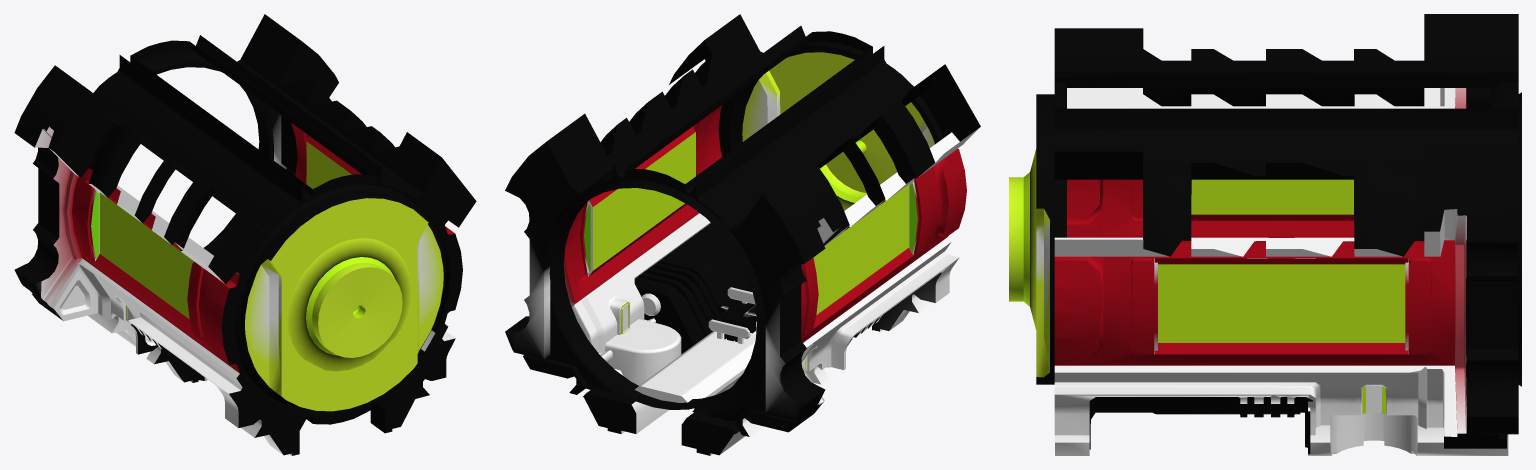
The model's file is part_main-lod0.dae.
3 renders of one model, left to right at view 1: azimuth 30°, elevation 25°; view 2: azimuth 150°, elevation 25°; view 3: azimuth 270°, elevation 25°, orthographic. The views are drawn at different scales.
Parts seen in each view (by area): view 1: part_main-lod0Xlod0Xp2genericXgen_p2_hulltextureaged_02_b, part_main-lod0Xlod0Xp2genericXgen_p2_hulltexture_02_c, part_main-lod0Xlod0Xp2genericXgen_p2_hullpattern_01, part_main-lod0Xlod0Xp2multimatXp2_multimat_01; view 2: part_main-lod0Xlod0Xp2genericXgen_p2_hulltextureaged_02_b, part_main-lod0Xlod0Xp2genericXgen_p2_hullpattern_01, part_main-lod0Xlod0Xp2genericXgen_p2_hulltexture_02_c, part_main-lod0Xlod0Xp2multimatXp2_multimat_01; view 3: part_main-lod0Xlod0Xp2genericXgen_p2_hulltextureaged_02_b, part_main-lod0Xlod0Xp2genericXgen_p2_hulltexture_02_c, part_main-lod0Xlod0Xp2genericXgen_p2_hullpattern_01, part_main-lod0Xlod0Xp2multimatXp2_multimat_01.
Part boxes in pixels (x1=…): part_main-lod0Xlod0Xp2genericXgen_p2_hulltextureaged_02_b: x1=15, y1=35, x2=455, y2=455; part_main-lod0Xlod0Xp2genericXgen_p2_hulltexture_02_c: x1=93, y1=55, x2=443, y2=411; part_main-lod0Xlod0Xp2genericXgen_p2_hullpattern_01: x1=14, y1=14, x2=476, y2=455; part_main-lod0Xlod0Xp2multimatXp2_multimat_01: x1=72, y1=123, x2=435, y2=371; part_main-lod0Xlod0Xp2genericXgen_p2_hulltextureaged_02_b: x1=505, y1=25, x2=966, y2=455; part_main-lod0Xlod0Xp2genericXgen_p2_hullpattern_01: x1=505, y1=14, x2=980, y2=455; part_main-lod0Xlod0Xp2genericXgen_p2_hulltexture_02_c: x1=591, y1=46, x2=934, y2=320; part_main-lod0Xlod0Xp2multimatXp2_multimat_01: x1=565, y1=40, x2=944, y2=370; part_main-lod0Xlod0Xp2genericXgen_p2_hulltextureaged_02_b: x1=1009, y1=60, x2=1521, y2=455; part_main-lod0Xlod0Xp2genericXgen_p2_hulltexture_02_c: x1=1054, y1=81, x2=1518, y2=354; part_main-lod0Xlod0Xp2genericXgen_p2_hullpattern_01: x1=1050, y1=14, x2=1518, y2=448; part_main-lod0Xlod0Xp2multimatXp2_multimat_01: x1=1054, y1=47, x2=1452, y2=413.
Size of the model in its own units: 25.21 by 22.41 by 30.29.
